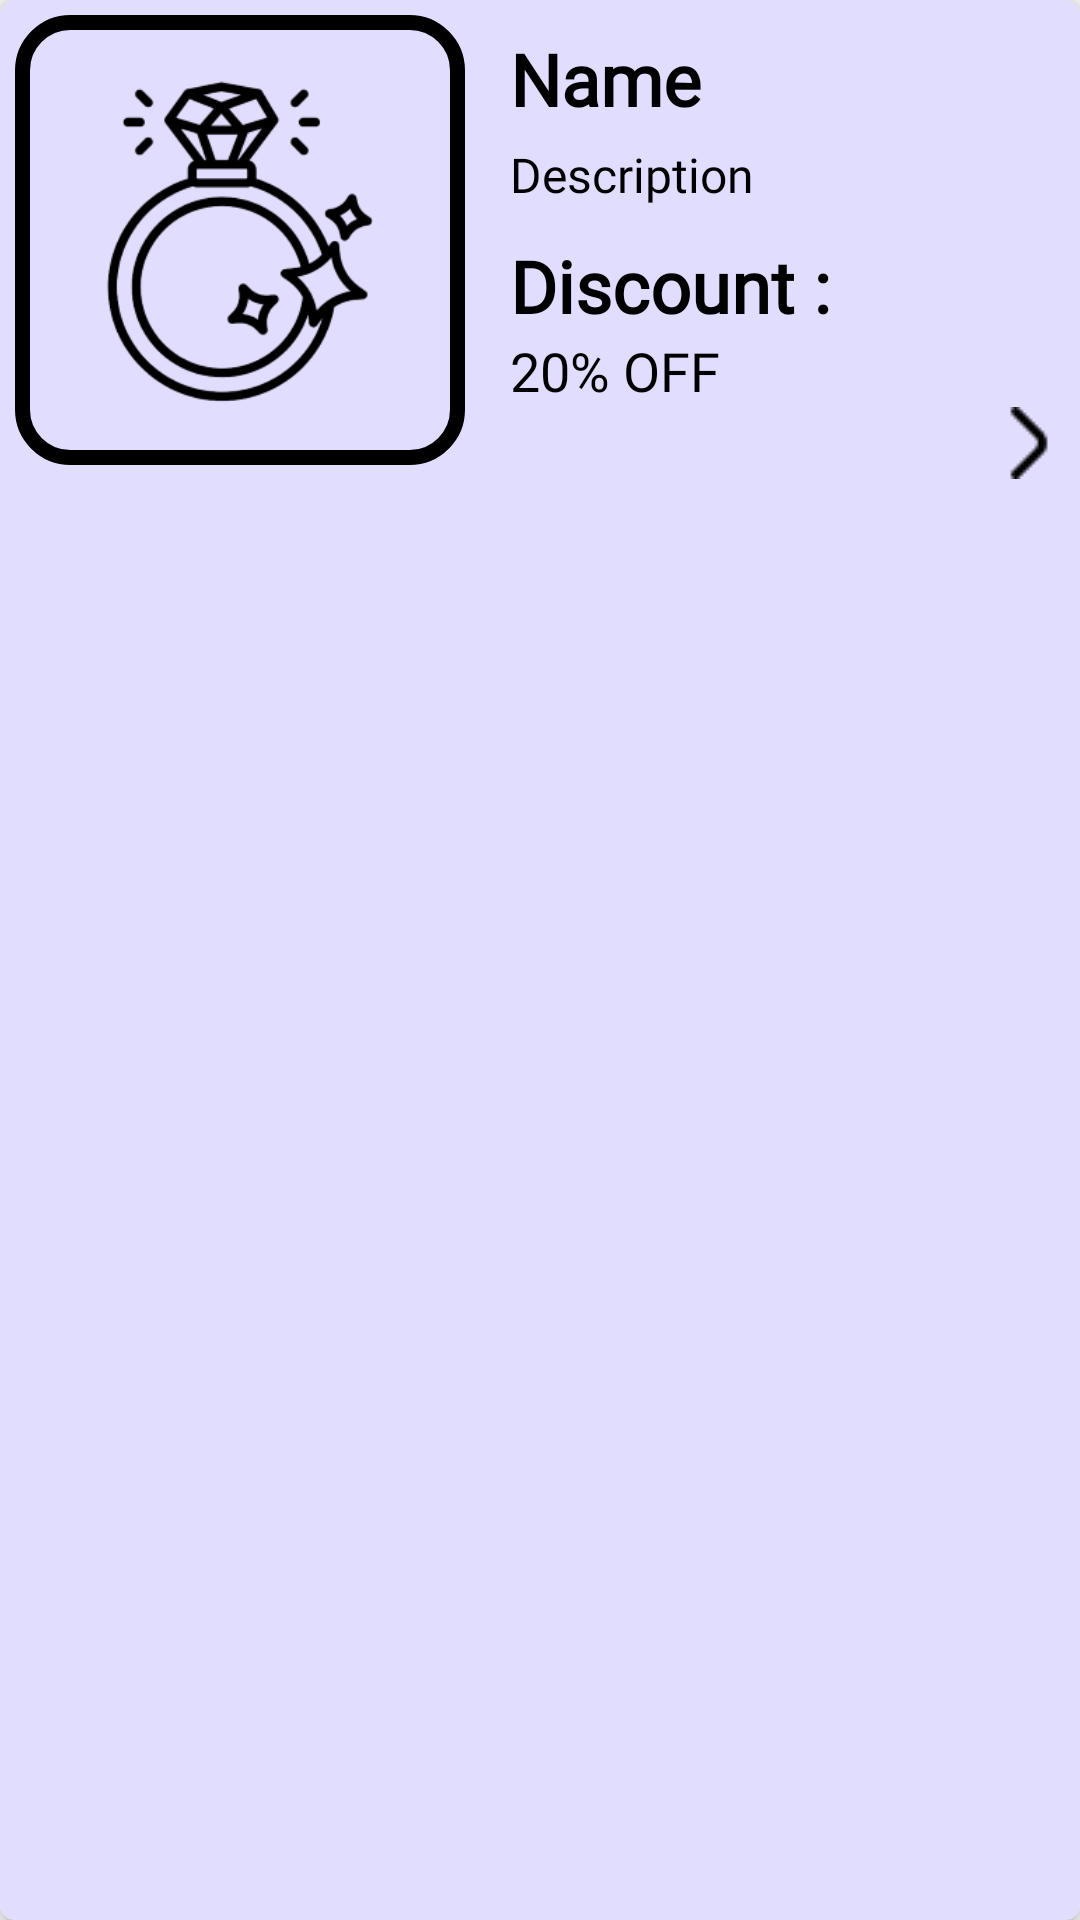

Icon bounding boxes for this 1080w x 1920h phone screenshot, format (x1, y1, x2, y2):
arrow: (1010, 407, 1048, 479)
